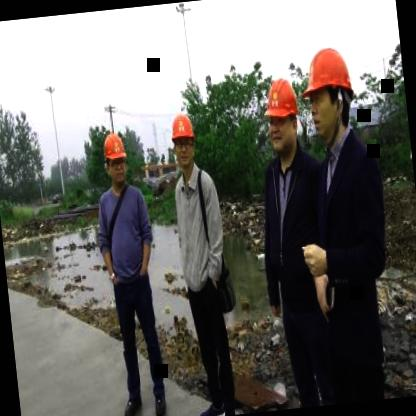helmet: (301, 43, 359, 144), (259, 72, 306, 160), (165, 105, 201, 174), (99, 129, 132, 186)
